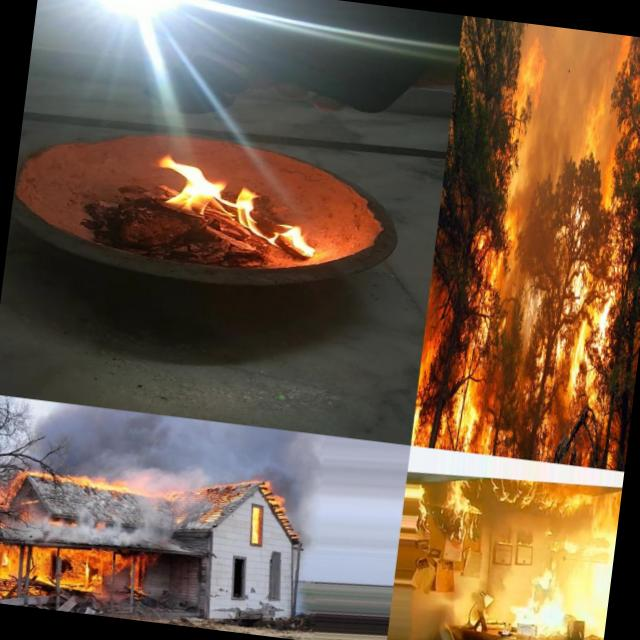fire: (410, 15, 640, 470), (137, 144, 331, 258), (0, 538, 151, 606), (504, 562, 573, 638), (524, 479, 588, 550), (26, 463, 134, 494), (245, 500, 267, 548)
smoke: (26, 400, 326, 500), (0, 494, 185, 557)
